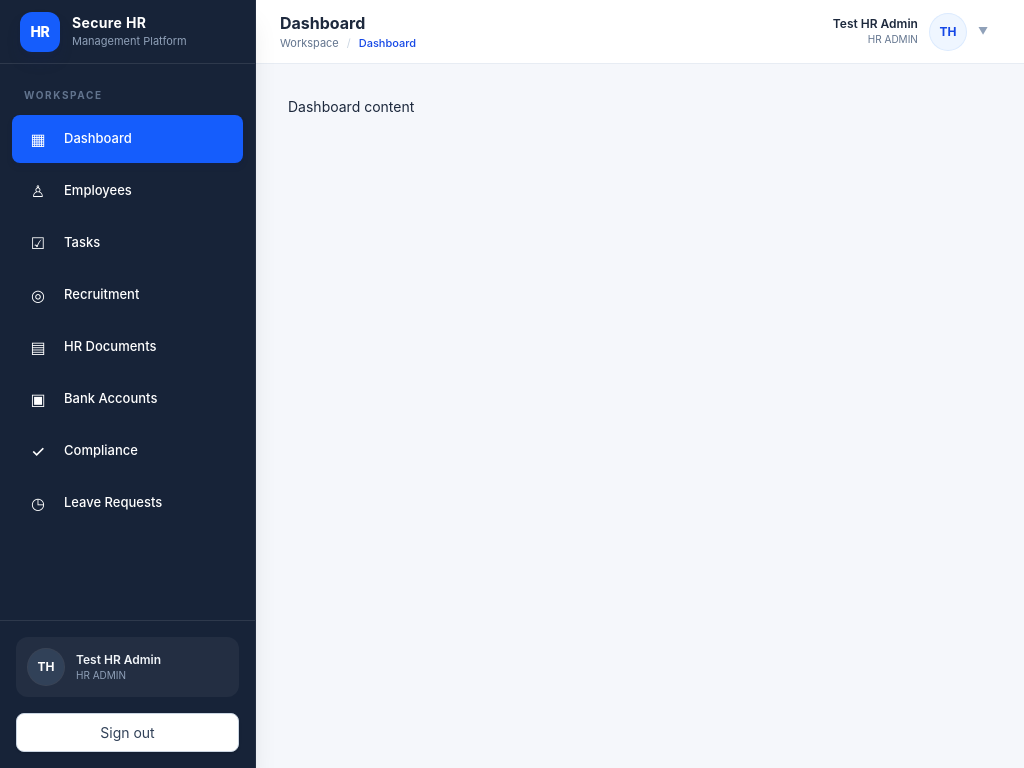
Test case: AppLayout › closes the user menu when clicking outside
Click the button with aria-label "Open user menu" at (910, 32), box [821,8,1000,56]
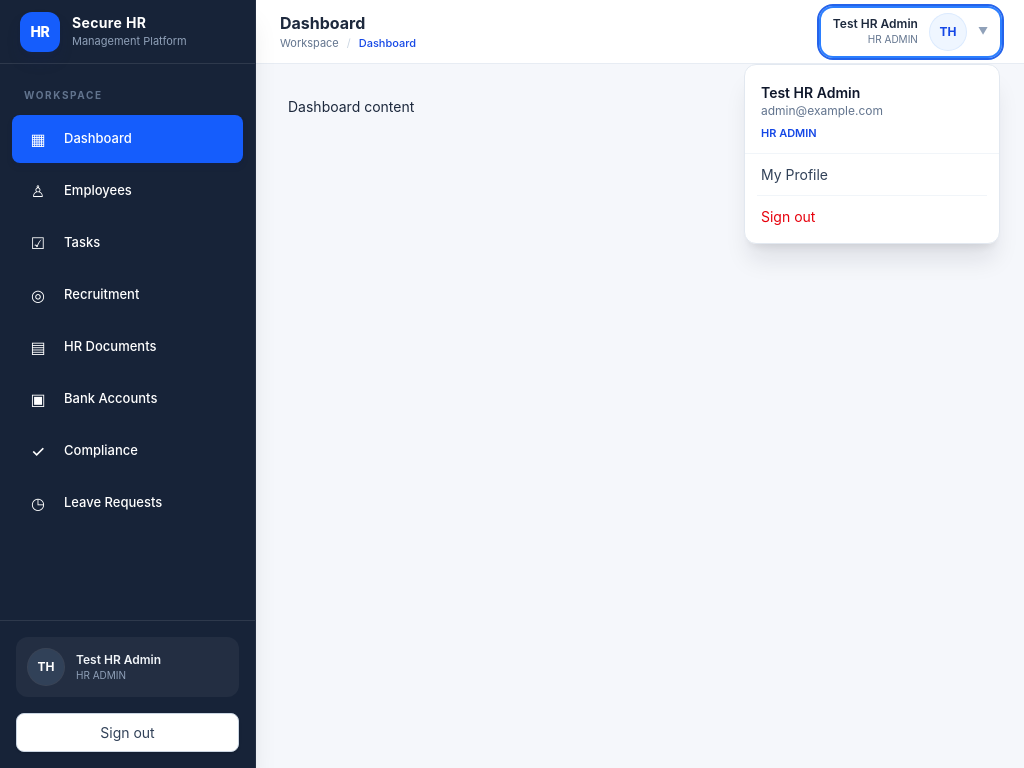
Result: the menu is shown at [744,64,1000,244]
Click the text "Dashboard content" at (351, 106), box [288,98,414,115]
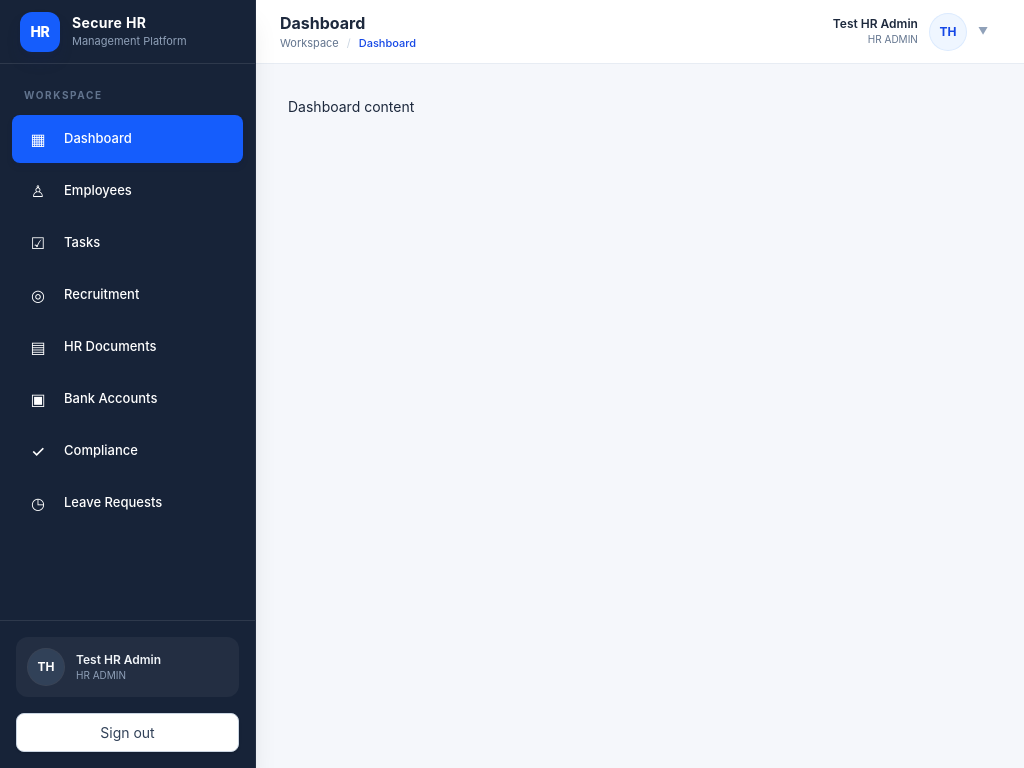
Result: the menu is gone
